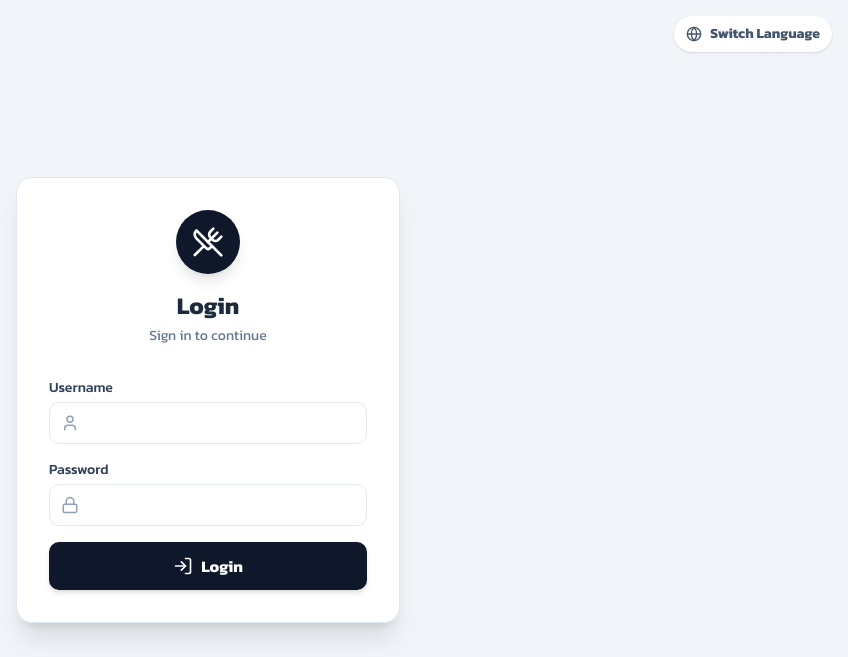
Test: LoginForm › Loading State › should disable submit button during loading
Type "user" into the field labelled "Username" at (208, 423), box [49,402,367,444]
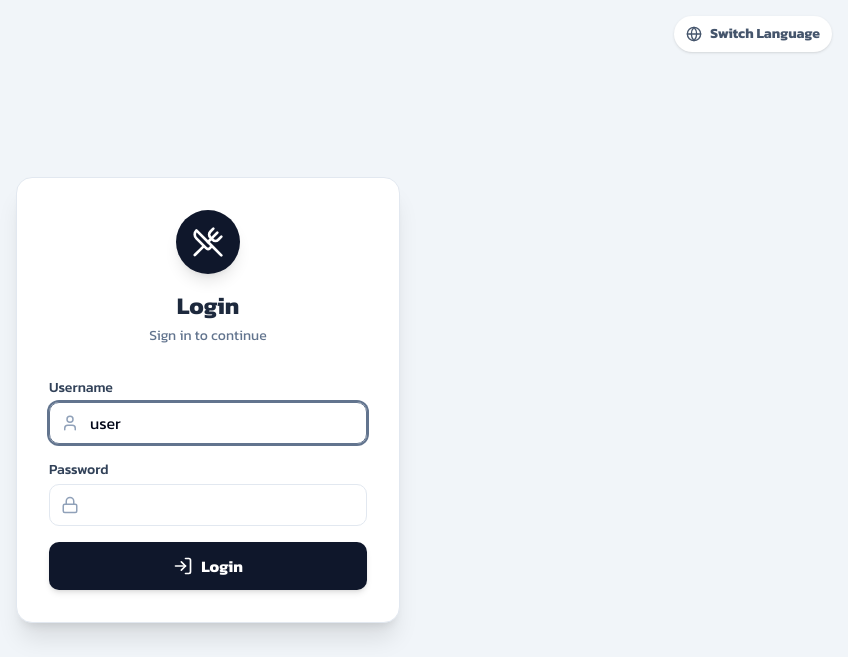
Type "pass" into the password field labelled "Password" at (208, 505), box [49,484,367,526]
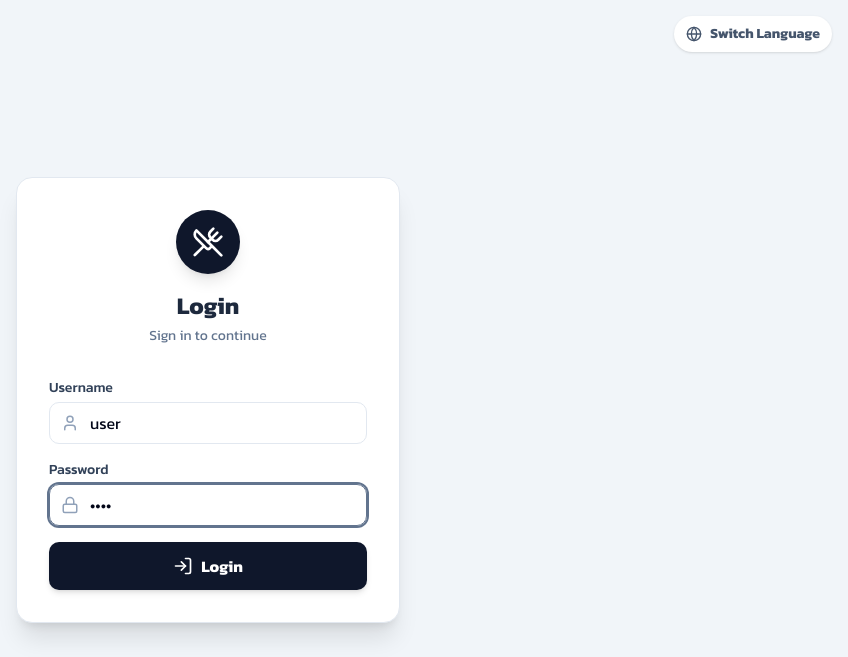
Click the button "Login" at (208, 566), box [49,542,367,590]
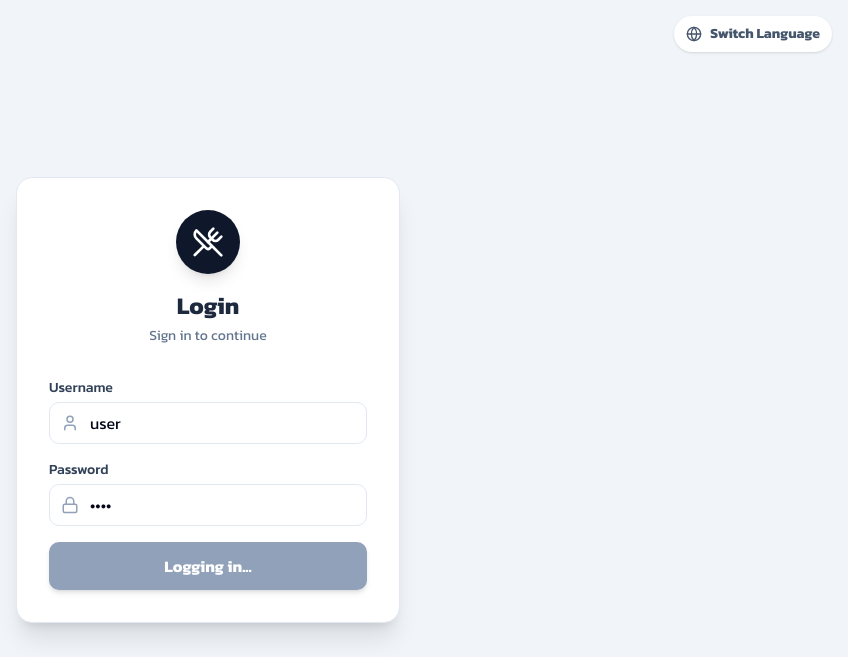
Expected: the button with aria-label "Login" is disabled, [49,542,367,590]
